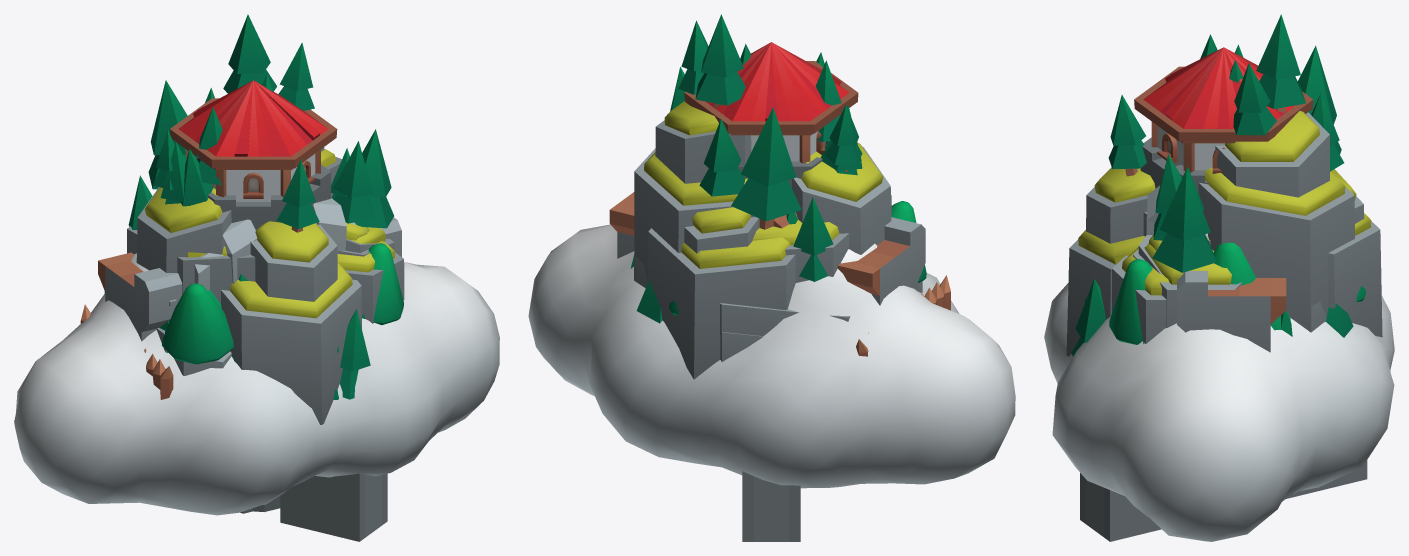
File: world.glb
3 views of the same model, side by side, from view 1: azimuth 30°, elevation 25°; view 2: azimuth 150°, elevation 25°; view 3: azimuth 270°, elevation 25° (orthographic). The views are drawn at different scales.
Visible parts, largest first — view 1: cloud_big, mountain_C, building_tower_A_top_red, mountain_C_grass_trees, mountain_B_grass_trees, building_bridge_A, trees_B_large, mountain_A_grass_trees, wall_straight, mountain_A, wall_straight_gate, building_tower_A_red (+2 smaller); view 2: cloud_big, mountain_C, mountain_C_grass_trees, building_tower_A_top_red, mountain_B, mountain_B_grass_trees, mountain_A_grass_trees, wall_straight, building_bridge_A, mountain_A, fence_wood_straight, trees_A_large; view 3: cloud_big, mountain_B, mountain_B_grass_trees, mountain_C, building_tower_A_top_red, mountain_C_grass_trees, wall_straight, mountain_A_grass_trees, building_bridge_A, trees_B_large, mountain_A, trees_A_large (+3 smaller).
Part boxes in pixels (box(x1,y1,x2,y2)): cloud_big: box(14, 253, 499, 515); mountain_C: box(136, 187, 377, 424); building_tower_A_top_red: box(170, 80, 337, 201); mountain_C_grass_trees: box(144, 88, 369, 318); mountain_B_grass_trees: box(128, 14, 385, 243); building_bridge_A: box(240, 473, 387, 541); trees_B_large: box(162, 243, 403, 364); mountain_A_grass_trees: box(148, 74, 394, 272); wall_straight: box(98, 217, 401, 341); mountain_A: box(127, 226, 404, 323); wall_straight_gate: box(195, 198, 366, 289); building_tower_A_red: box(208, 164, 330, 229); cloud_big: box(528, 224, 1015, 488); mountain_C: box(648, 146, 922, 379); mountain_C_grass_trees: box(681, 52, 883, 268); building_tower_A_top_red: box(684, 42, 858, 163); mountain_B: box(634, 120, 850, 360); mountain_B_grass_trees: box(644, 14, 861, 281); mountain_A_grass_trees: box(670, 43, 862, 245); wall_straight: box(609, 192, 925, 305); building_bridge_A: box(742, 471, 800, 541); mountain_A: box(634, 195, 891, 361); fence_wood_straight: box(856, 275, 950, 356); trees_A_large: box(630, 256, 662, 323); cloud_big: box(1044, 283, 1394, 541); mountain_B: box(1133, 112, 1354, 332); mountain_B_grass_trees: box(1144, 14, 1345, 284); mountain_C: box(1066, 187, 1382, 356); building_tower_A_top_red: box(1134, 47, 1313, 173); mountain_C_grass_trees: box(1078, 34, 1371, 264); wall_straight: box(1177, 271, 1286, 352); mountain_A_grass_trees: box(1122, 45, 1341, 295); building_bridge_A: box(1080, 460, 1367, 541); trees_B_large: box(1084, 259, 1290, 344); mountain_A: box(1112, 212, 1326, 343); trees_A_large: box(1071, 278, 1353, 356).
Bounding box in the file's own units: 3.61 × 3.5 × 2.24.
Materials: 1 (1 with a texture image).
